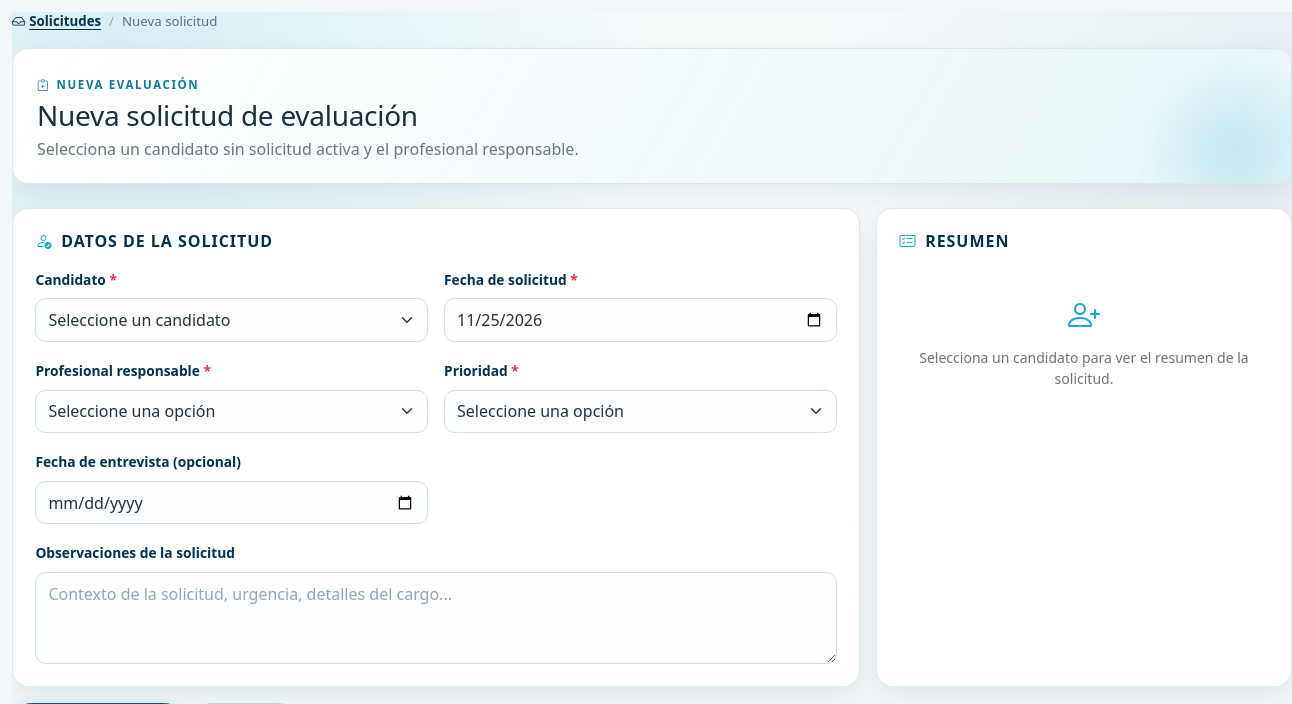
Test case: SolicitudFormPage › muestra el resumen del candidato seleccionado
Select "Constanza Fuentes · Ingeniero de Procesos" in the dropdown labelled "Candidato *": (232, 320) [35,298,428,342]
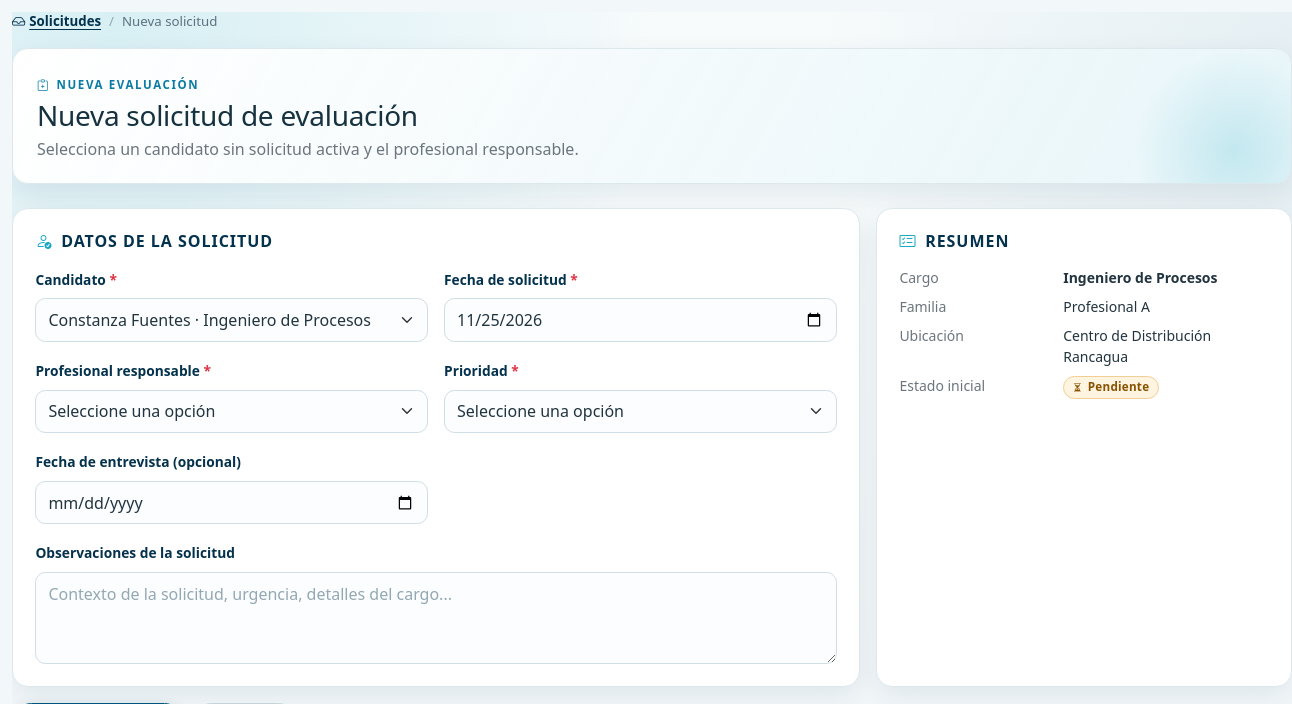
Result: the text "Estado inicial" is shown at [899,376,985,395]
